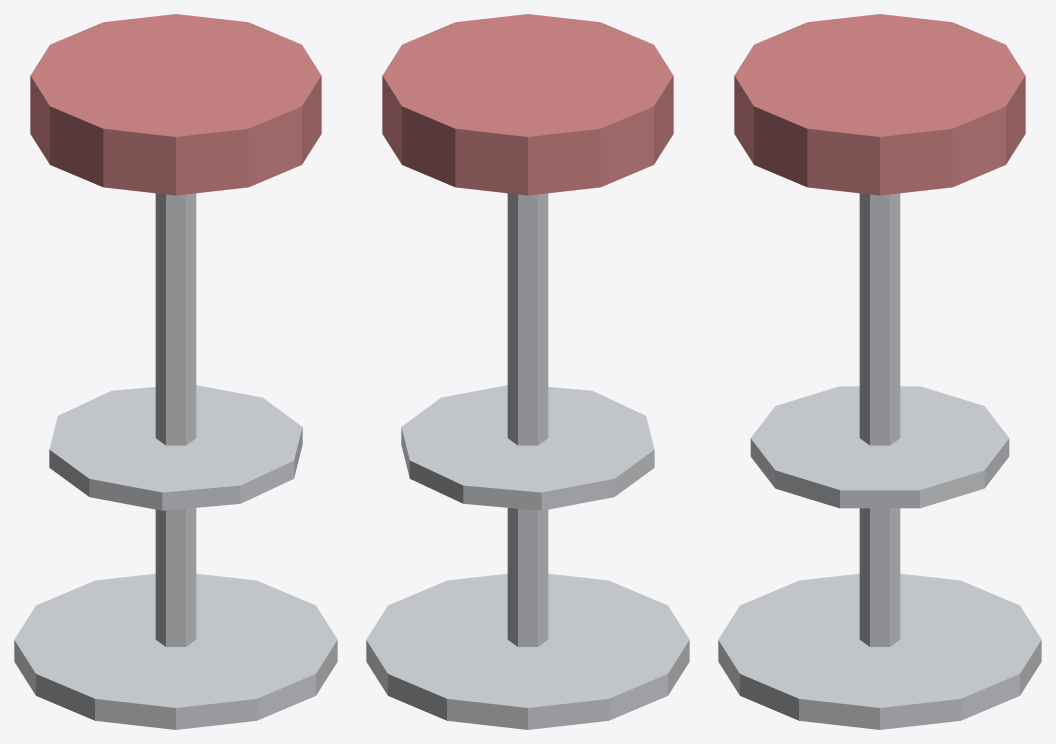
Rendered from bar_stool.glb.
The picture shows the model from 3 angles, left to right: view 1: azimuth 30°, elevation 25°; view 2: azimuth 150°, elevation 25°; view 3: azimuth 270°, elevation 25°; orthographic projection.
Parts seen in each view (by area): view 1: bar_stool; view 2: bar_stool; view 3: bar_stool.
Part boxes in pixels (x1,y1,x2,y2): bar_stool: (14,14,337,729); bar_stool: (366,14,689,729); bar_stool: (718,14,1041,729).
Bounding box in the file's own units: 0.4 × 0.8 × 0.4.
